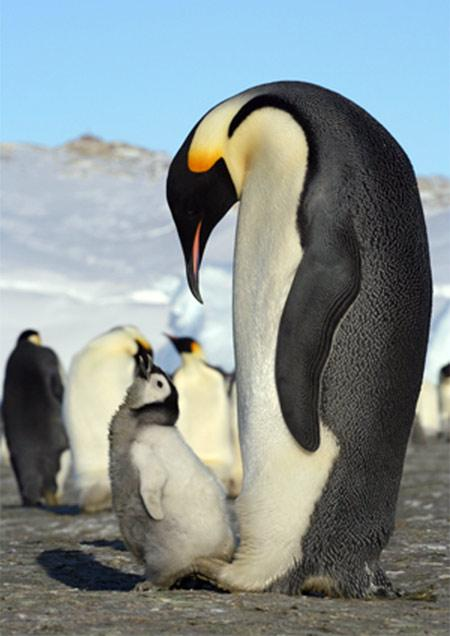emporer: (145, 57, 430, 615)
